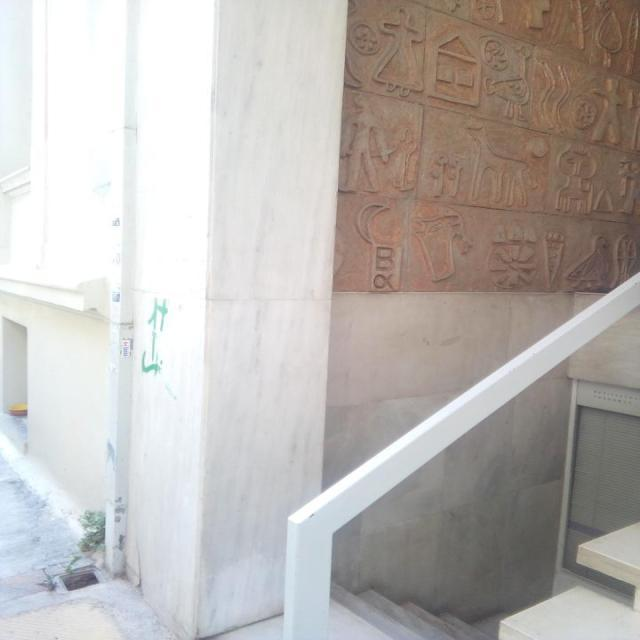nonspitting: (138, 298, 168, 374)
